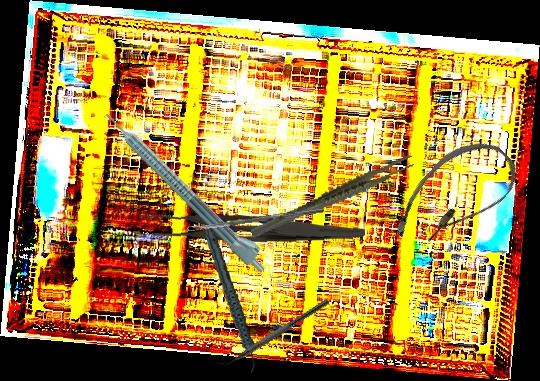Cannula: (383, 124, 527, 270)
Chopper: (214, 291, 330, 374)
Dressing Forceps: (139, 203, 366, 247)
Handpiece: (100, 102, 275, 277), (203, 222, 258, 377)
Surgical Spoon: (186, 206, 325, 232)
Tissue Forceps: (242, 153, 422, 240)
